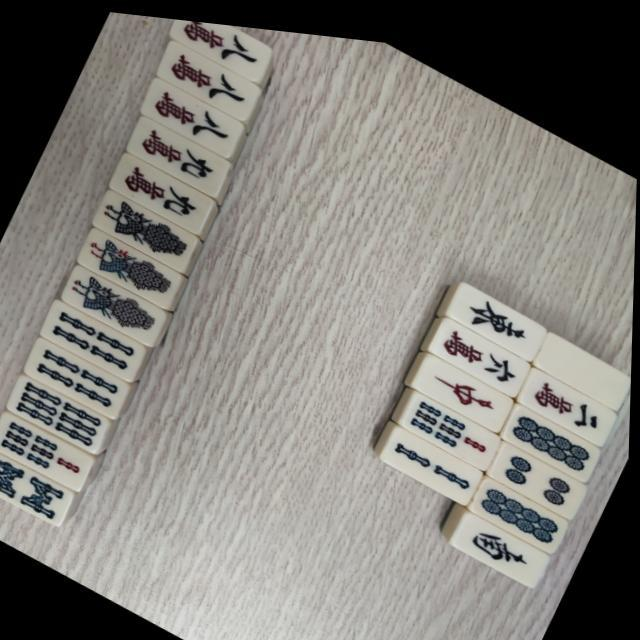hdr: (418, 346, 512, 417)
hdw: (538, 322, 628, 392)
hwe: (448, 272, 546, 346)
hws: (454, 500, 550, 574)
sb1: (94, 188, 198, 268), (62, 263, 164, 341), (78, 226, 178, 304)
sb2: (384, 418, 482, 492)
sb4: (44, 300, 144, 376), (30, 338, 128, 413)
sb6: (10, 374, 110, 452)
sb7: (403, 382, 499, 456), (0, 413, 91, 487)
sb8: (0, 447, 74, 523)
sc2: (520, 356, 614, 429)
sc6: (432, 308, 529, 382)
sc8: (158, 37, 258, 115), (142, 75, 242, 152), (171, 15, 267, 75)
sc9: (130, 114, 228, 190), (114, 152, 210, 226)
sd4: (492, 430, 584, 502)
sd8: (504, 393, 598, 466), (474, 466, 568, 539)
